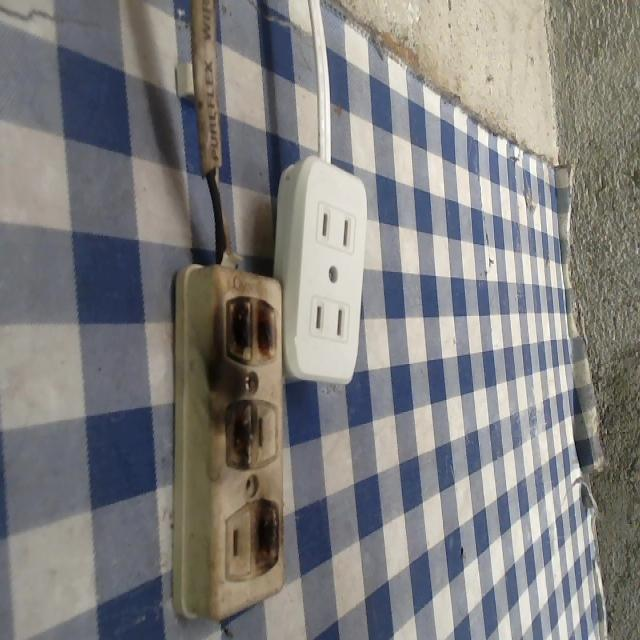-: (216, 287, 283, 372), (216, 388, 263, 476), (249, 488, 287, 588)
